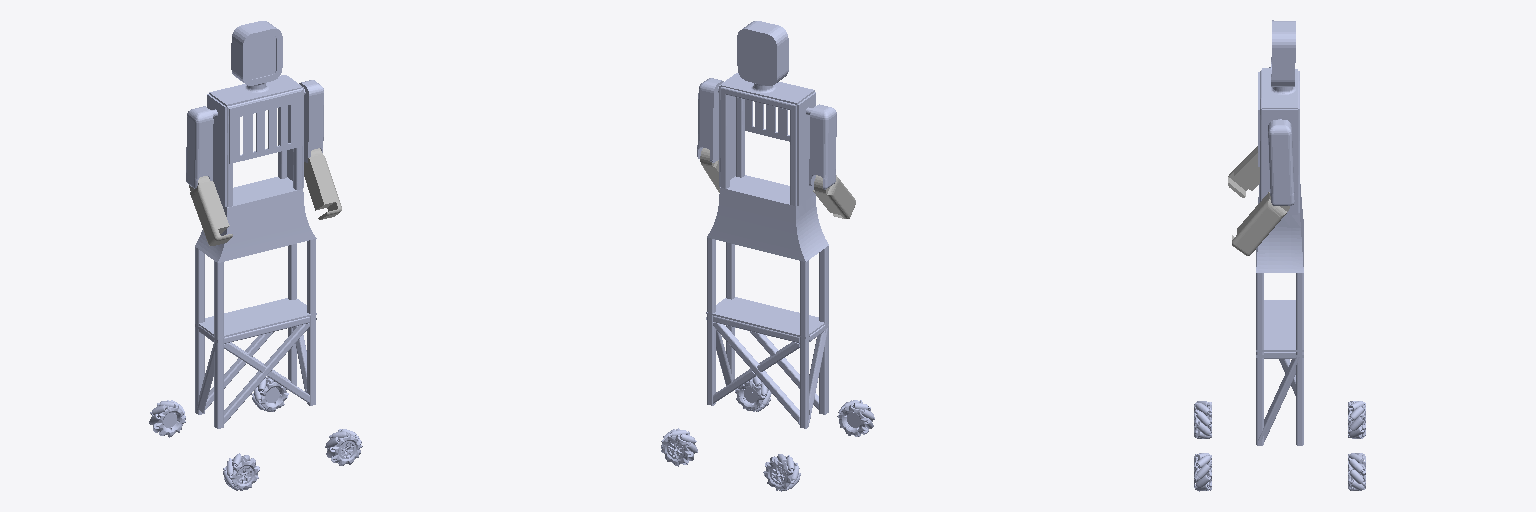
URDF robot description (humanoid):
<?xml version="1.0" encoding="utf-8"?>
<!-- This URDF was automatically created by SolidWorks to URDF Exporter! Originally created by [author] ([email redacted]) 
     Commit Version: 1.6.0-4-g7f85cfe  Build Version: 1.6.7995.38578
     For more information, please see http://wiki.ros.org/sw_urdf_exporter -->
<robot
  name="humanoid">
  <link
    name="base_link">
    <inertial>
      <origin
        xyz="0.00146800173300426 0.000368098682734963 0.595271190932011"
        rpy="0 0 0" />
      <mass
        value="6.59786730825667" />
      <inertia
        ixx="0.0243370746500142"
        ixy="-9.00162307469399E-06"
        ixz="-0.000508253254939784"
        iyy="0.0454427141394048"
        iyz="-0.00011010597761082"
        izz="0.0310787957802052" />
    </inertial>
    <visual>
      <origin
        xyz="0 0 0"
        rpy="0 0 0" />
      <geometry>
        <mesh
          filename="package://humanoid/meshes/base_link.STL" />
      </geometry>
      <material
        name="">
        <color
          rgba="0.792156862745098 0.819607843137255 0.933333333333333 1" />
      </material>
    </visual>
    <collision>
      <origin
        xyz="0 0 0"
        rpy="0 0 0" />
      <geometry>
        <mesh
          filename="package://humanoid/meshes/base_link.STL" />
      </geometry>
    </collision>
  </link>
  <link
    name="link_fr_lt_wh">
    <inertial>
      <origin
        xyz="-3.13824119468897E-09 0.00307634935980393 2.32166867597224E-06"
        rpy="0 0 0" />
      <mass
        value="1.03988915130523" />
      <inertia
        ixx="0.00020925272867808"
        ixy="5.88542377840665E-08"
        ixz="5.62115286865014E-12"
        iyy="0.000223869266689451"
        iyz="-6.21612812508612E-10"
        izz="0.000209178284317103" />
    </inertial>
    <visual>
      <origin
        xyz="0 0 0"
        rpy="0 0 0" />
      <geometry>
        <mesh
          filename="package://humanoid/meshes/link_fr_lt_wh.STL" />
      </geometry>
      <material
        name="">
        <color
          rgba="0.792156862745098 0.819607843137255 0.933333333333333 1" />
      </material>
    </visual>
    <collision>
      <origin
        xyz="0 0 0"
        rpy="0 0 0" />
      <geometry>
        <mesh
          filename="package://humanoid/meshes/link_fr_lt_wh.STL" />
      </geometry>
    </collision>
  </link>
  <joint
    name="joint_fr_lt_wh"
    type="continuous">
    <origin
      xyz="-0.155 -0.1965 -0.09125"
      rpy="0 0 0" />
    <parent
      link="base_link" />
    <child
      link="link_fr_lt_wh" />
    <axis
      xyz="0 1 0" />
  </joint>
  <link
    name="link_fr_rt_wh">
    <inertial>
      <origin
        xyz="-8.99073366644743E-07 0.00301651511752311 -2.17228358682237E-06"
        rpy="0 0 0" />
      <mass
        value="1.03988421354636" />
      <inertia
        ixx="0.000209238462488286"
        ixy="5.48475076754617E-08"
        ixz="-2.62028169110148E-08"
        iyy="0.000223864333138709"
        iyz="-2.20643166744823E-08"
        izz="0.000209186121679234" />
    </inertial>
    <visual>
      <origin
        xyz="0 0 0"
        rpy="0 0 0" />
      <geometry>
        <mesh
          filename="package://humanoid/meshes/link_fr_rt_wh.STL" />
      </geometry>
      <material
        name="">
        <color
          rgba="0.792156862745098 0.819607843137255 0.933333333333333 1" />
      </material>
    </visual>
    <collision>
      <origin
        xyz="0 0 0"
        rpy="0 0 0" />
      <geometry>
        <mesh
          filename="package://humanoid/meshes/link_fr_rt_wh.STL" />
      </geometry>
    </collision>
  </link>
  <joint
    name="joint_fr_rt_wh"
    type="continuous">
    <origin
      xyz="0.155 -0.1965 -0.09125"
      rpy="0 0 0" />
    <parent
      link="base_link" />
    <child
      link="link_fr_rt_wh" />
    <axis
      xyz="0 1 0" />
  </joint>
  <link
    name="link_bk_lt_wh">
    <inertial>
      <origin
        xyz="-8.70718303014328E-10 -0.00301651341478815 -2.29624377523995E-06"
        rpy="0 0 0" />
      <mass
        value="1.03988184257683" />
      <inertia
        ixx="0.000209248588903058"
        ixy="5.8614080647724E-08"
        ixz="1.06662793586049E-12"
        iyy="0.000223862834264278"
        iyz="-6.04589301395144E-10"
        izz="0.000209173683816729" />
    </inertial>
    <visual>
      <origin
        xyz="0 0 0"
        rpy="0 0 0" />
      <geometry>
        <mesh
          filename="package://humanoid/meshes/link_bk_lt_wh.STL" />
      </geometry>
      <material
        name="">
        <color
          rgba="0.792156862745098 0.819607843137255 0.933333333333333 1" />
      </material>
    </visual>
    <collision>
      <origin
        xyz="0 0 0"
        rpy="0 0 0" />
      <geometry>
        <mesh
          filename="package://humanoid/meshes/link_bk_lt_wh.STL" />
      </geometry>
    </collision>
  </link>
  <joint
    name="joint_bk_lt_wh"
    type="continuous">
    <origin
      xyz="-0.155 0.1965 -0.09125"
      rpy="0 0 0" />
    <parent
      link="base_link" />
    <child
      link="link_bk_lt_wh" />
    <axis
      xyz="0 1 0" />
  </joint>
  <link
    name="link_bk_rt_wh">
    <inertial>
      <origin
        xyz="9.24219904385737E-07 -0.00307634702090553 2.22532756776676E-06"
        rpy="0 0 0" />
      <mass
        value="1.03989176003312" />
      <inertia
        ixx="0.000209242884698713"
        ixy="5.47361967549999E-08"
        ixz="-2.58284575481405E-08"
        iyy="0.000223871012325133"
        iyz="-2.19742646218494E-08"
        izz="0.000209190798833569" />
    </inertial>
    <visual>
      <origin
        xyz="0 0 0"
        rpy="0 0 0" />
      <geometry>
        <mesh
          filename="package://humanoid/meshes/link_bk_rt_wh.STL" />
      </geometry>
      <material
        name="">
        <color
          rgba="0.792156862745098 0.819607843137255 0.933333333333333 1" />
      </material>
    </visual>
    <collision>
      <origin
        xyz="0 0 0"
        rpy="0 0 0" />
      <geometry>
        <mesh
          filename="package://humanoid/meshes/link_bk_rt_wh.STL" />
      </geometry>
    </collision>
  </link>
  <joint
    name="joint_bk_rt_wh"
    type="continuous">
    <origin
      xyz="0.155 0.1965 -0.09125"
      rpy="0 0 0" />
    <parent
      link="base_link" />
    <child
      link="link_bk_rt_wh" />
    <axis
      xyz="0 1 0" />
  </joint>
  <link
    name="link_shld_lf">
    <inertial>
      <origin
        xyz="-0.0391971732151668 0.00232115093642621 -0.0778718767219478"
        rpy="0 0 0" />
      <mass
        value="0.559659567646006" />
      <inertia
        ixx="0.00190691954630906"
        ixy="4.16798674197336E-07"
        ixz="-1.39855384275073E-05"
        iyy="0.00187128476296307"
        iyz="4.73029978941524E-05"
        izz="0.000285685128213519" />
    </inertial>
    <visual>
      <origin
        xyz="0 0 0"
        rpy="0 0 0" />
      <geometry>
        <mesh
          filename="package://humanoid/meshes/link_shld_lf.STL" />
      </geometry>
      <material
        name="">
        <color
          rgba="0.792156862745098 0.819607843137255 0.933333333333333 1" />
      </material>
    </visual>
    <collision>
      <origin
        xyz="0 0 0"
        rpy="0 0 0" />
      <geometry>
        <mesh
          filename="package://humanoid/meshes/link_shld_lf.STL" />
      </geometry>
    </collision>
  </link>
  <joint
    name="joint_shld_lf"
    type="continuous">
    <origin
      xyz="-0.13 0 0.86193"
      rpy="0 0 0" />
    <parent
      link="base_link" />
    <child
      link="link_shld_lf" />
    <axis
      xyz="1 0 0" />
  </joint>
  <link
    name="link_arm_lt">
    <inertial>
      <origin
        xyz="0.0172917915635735 -0.054921506475034 -0.060834841870972"
        rpy="0 0 0" />
      <mass
        value="0.470361373137751" />
      <inertia
        ixx="0.00124124470458739"
        ixy="-1.61328186733828E-05"
        ixz="-1.78703227011096E-05"
        iyy="0.000762203448557801"
        iyz="-0.000483808267144904"
        izz="0.000663086919854392" />
    </inertial>
    <visual>
      <origin
        xyz="0 0 0"
        rpy="0 0 0" />
      <geometry>
        <mesh
          filename="package://humanoid/meshes/link_arm_lt.STL" />
      </geometry>
      <material
        name="">
        <color
          rgba="0.752941176470588 0.752941176470588 0.752941176470588 1" />
      </material>
    </visual>
    <collision>
      <origin
        xyz="0 0 0"
        rpy="0 0 0" />
      <geometry>
        <mesh
          filename="package://humanoid/meshes/link_arm_lt.STL" />
      </geometry>
    </collision>
  </link>
  <joint
    name="joint_arm_lt"
    type="continuous">
    <origin
      xyz="-0.0579999999999987 0.00551185515409525 -0.184917872183201"
      rpy="0 0 0" />
    <parent
      link="link_shld_lf" />
    <child
      link="link_arm_lt" />
    <axis
      xyz="1 0 0" />
  </joint>
  <link
    name="link_shld_rf">
    <inertial>
      <origin
        xyz="0.0391971731983877 0.00276004508647409 -0.0778575562335012"
        rpy="0 0 0" />
      <mass
        value="0.559659567665085" />
      <inertia
        ixx="0.00190691954861769"
        ixy="-4.9576636265234E-07"
        ixz="1.39829623774912E-05"
        iyy="0.00187070093441012"
        iyz="5.62401831169847E-05"
        izz="0.000286268959006351" />
    </inertial>
    <visual>
      <origin
        xyz="0 0 0"
        rpy="0 0 0" />
      <geometry>
        <mesh
          filename="package://humanoid/meshes/link_shld_rf.STL" />
      </geometry>
      <material
        name="">
        <color
          rgba="0.792156862745098 0.819607843137255 0.933333333333333 1" />
      </material>
    </visual>
    <collision>
      <origin
        xyz="0 0 0"
        rpy="0 0 0" />
      <geometry>
        <mesh
          filename="package://humanoid/meshes/link_shld_rf.STL" />
      </geometry>
    </collision>
  </link>
  <joint
    name="joint_shld_rf"
    type="continuous">
    <origin
      xyz="0.13 0 0.86193"
      rpy="0 0 0" />
    <parent
      link="base_link" />
    <child
      link="link_shld_rf" />
    <axis
      xyz="1 0 0" />
  </joint>
  <link
    name="link_arm_rt">
    <inertial>
      <origin
        xyz="-0.0172917916000795 -0.0503916997843615 -0.0646368817874292"
        rpy="0 0 0" />
      <mass
        value="0.470361371138522" />
      <inertia
        ixx="0.00124124470504008"
        ixy="1.48026912304648E-05"
        ixz="1.89867519350075E-05"
        iyy="0.000831283748551062"
        iyz="-0.000471647483050391"
        izz="0.000594006622595301" />
    </inertial>
    <visual>
      <origin
        xyz="0 0 0"
        rpy="0 0 0" />
      <geometry>
        <mesh
          filename="package://humanoid/meshes/link_arm_rt.STL" />
      </geometry>
      <material
        name="">
        <color
          rgba="0.752941176470588 0.752941176470588 0.752941176470588 1" />
      </material>
    </visual>
    <collision>
      <origin
        xyz="0 0 0"
        rpy="0 0 0" />
      <geometry>
        <mesh
          filename="package://humanoid/meshes/link_arm_rt.STL" />
      </geometry>
    </collision>
  </link>
  <joint
    name="joint_arm_rt"
    type="continuous">
    <origin
      xyz="0.058 0.0065542 -0.18488"
      rpy="0 0 0" />
    <parent
      link="link_shld_rf" />
    <child
      link="link_arm_rt" />
    <axis
      xyz="1 0 0" />
  </joint>
</robot>

--- Facts derived from the render (not from the file) ---
3 views of the same robot in one strip: view 1: azimuth 30°, elevation 25°; view 2: azimuth 150°, elevation 25°; view 3: azimuth 270°, elevation 25° (orthographic).
Robot: humanoid — 9 links, 8 joints (8 continuous); root link base_link; default pose: every joint at zero.
Links seen in each view (by area): view 1: base_link, link_shld_lf, link_arm_lt, link_arm_rt, link_shld_rf, link_fr_rt_wh, link_fr_lt_wh, link_bk_lt_wh, link_bk_rt_wh; view 2: base_link, link_shld_lf, link_shld_rf, link_arm_lt, link_bk_rt_wh, link_fr_lt_wh, link_bk_lt_wh, link_fr_rt_wh; view 3: base_link, link_shld_rf, link_arm_rt, link_arm_lt, link_bk_lt_wh, link_fr_lt_wh, link_bk_rt_wh, link_fr_rt_wh.
Boxes of the visible links, x1=… form: base_link: x1=195, y1=21, x2=316, y2=428; link_shld_lf: x1=186, y1=106, x2=214, y2=188; link_arm_lt: x1=189, y1=176, x2=232, y2=245; link_arm_rt: x1=304, y1=148, x2=341, y2=219; link_shld_rf: x1=299, y1=80, x2=323, y2=162; link_fr_rt_wh: x1=325, y1=429, x2=362, y2=465; link_fr_lt_wh: x1=223, y1=453, x2=259, y2=490; link_bk_lt_wh: x1=149, y1=400, x2=185, y2=437; link_bk_rt_wh: x1=251, y1=377, x2=288, y2=411; base_link: x1=706, y1=21, x2=828, y2=428; link_shld_lf: x1=809, y1=104, x2=836, y2=189; link_shld_rf: x1=697, y1=78, x2=723, y2=162; link_arm_lt: x1=813, y1=175, x2=855, y2=218; link_bk_rt_wh: x1=661, y1=428, x2=697, y2=466; link_fr_lt_wh: x1=837, y1=400, x2=874, y2=436; link_bk_lt_wh: x1=763, y1=454, x2=800, y2=491; link_fr_rt_wh: x1=735, y1=376, x2=771, y2=411; base_link: x1=1256, y1=20, x2=1303, y2=445; link_shld_rf: x1=1268, y1=120, x2=1294, y2=205; link_arm_rt: x1=1232, y1=192, x2=1289, y2=255; link_arm_lt: x1=1228, y1=146, x2=1259, y2=197; link_bk_lt_wh: x1=1348, y1=401, x2=1365, y2=438; link_fr_lt_wh: x1=1194, y1=401, x2=1211, y2=438; link_bk_rt_wh: x1=1348, y1=453, x2=1365, y2=490; link_fr_rt_wh: x1=1194, y1=453, x2=1211, y2=491.
Size in the robot's own frame: 0.4074 by 0.4316 by 1.22 metres.
9 mesh visuals loaded from 9 distinct referenced files (9 binary STL).